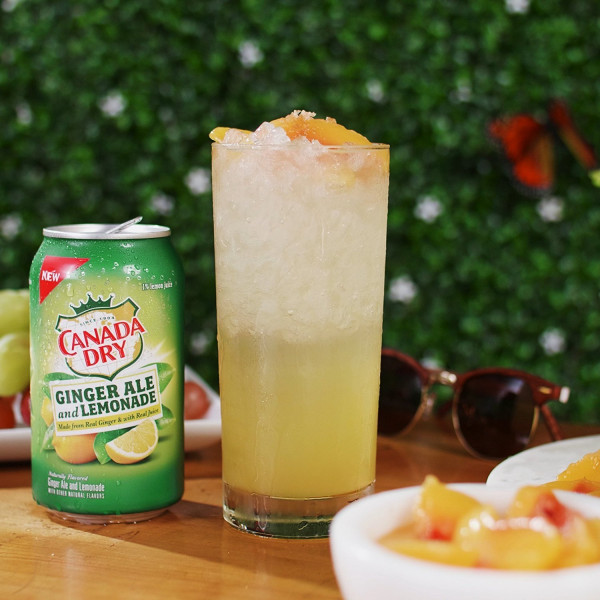Lata: (27, 214, 188, 531)
